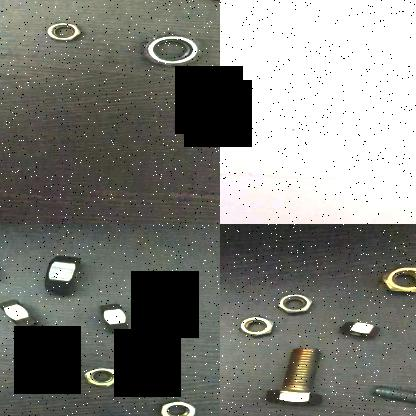Bolts: (248, 346, 338, 410), (356, 386, 416, 414)
NUTS: (138, 32, 206, 70), (42, 253, 88, 297), (373, 262, 416, 300), (95, 300, 138, 336), (33, 17, 89, 44), (0, 295, 39, 331), (227, 314, 279, 338), (333, 320, 381, 344), (80, 362, 124, 388), (14, 353, 63, 375), (272, 292, 314, 316), (157, 396, 202, 416)
